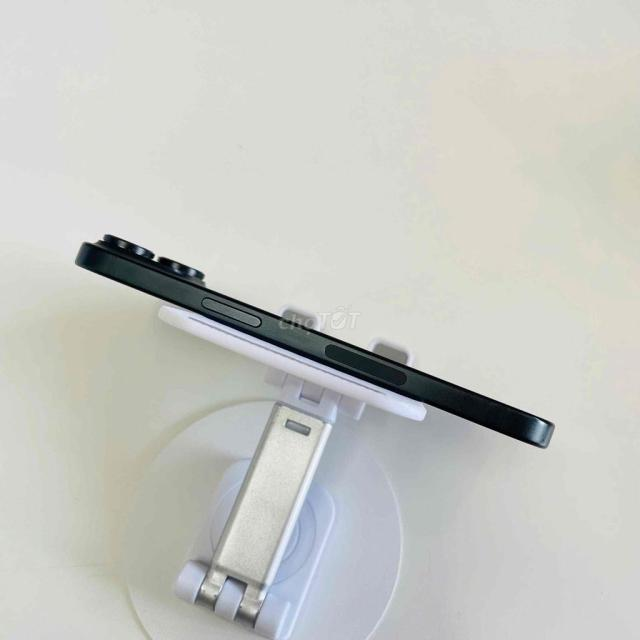gen_15: (69, 204, 565, 486)
